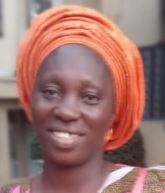without_facemask: (40, 105, 99, 165)
